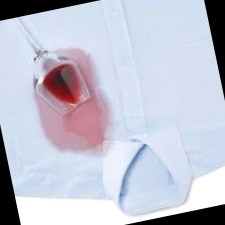wine: (39, 100, 112, 156), (83, 60, 107, 100), (58, 45, 95, 65)
